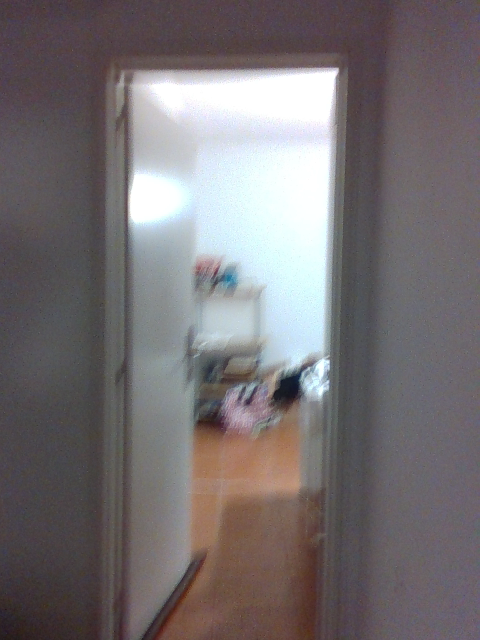open: (107, 47, 356, 630)
